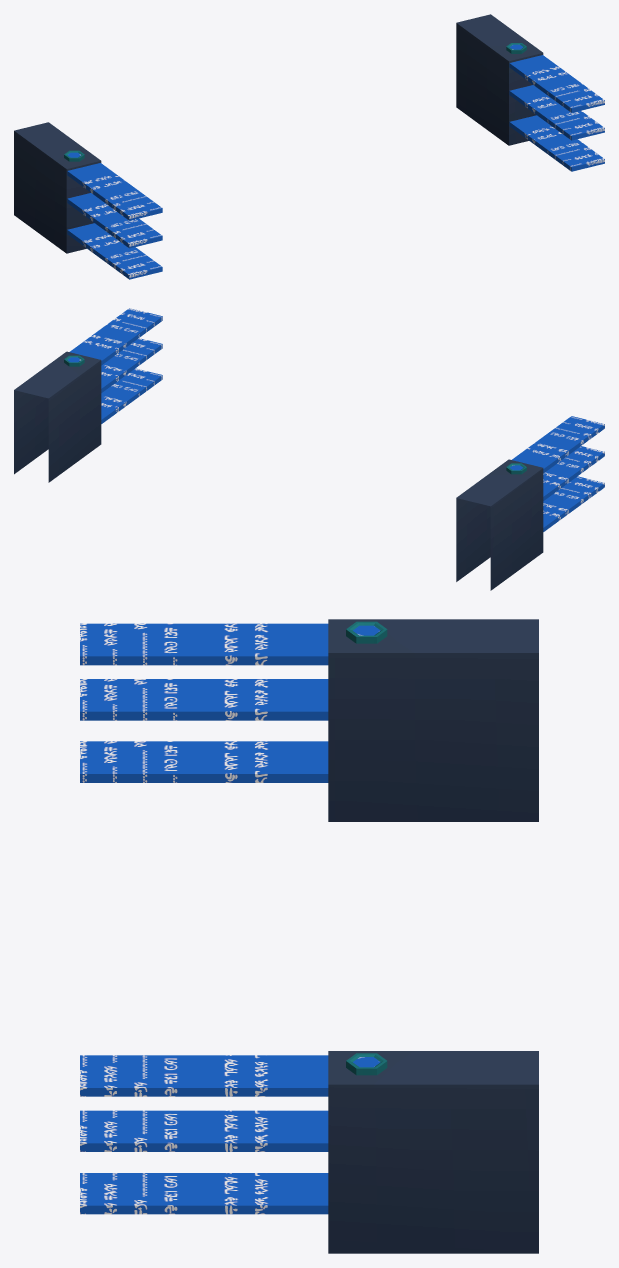
File: Pub - entranceBarriers.fbx
3 views of the same model, one above another, from view 1: azimuth 30°, elevation 25°; view 2: azimuth 150°, elevation 25°; view 3: azimuth 270°, elevation 25° (orthographic). The views are drawn at different scales.
Parts seen in each view (by area): view 1: Entrance_barrier; view 2: Entrance_barrier; view 3: Entrance_barrier.
Part boxes in pixels (left/top/right/bottom): Entrance_barrier: left=14, top=14, right=604, bottom=279; Entrance_barrier: left=14, top=308, right=604, bottom=590; Entrance_barrier: left=80, top=619, right=538, bottom=1253.
Size of the model in its own units: 595 by 105 by 248.
